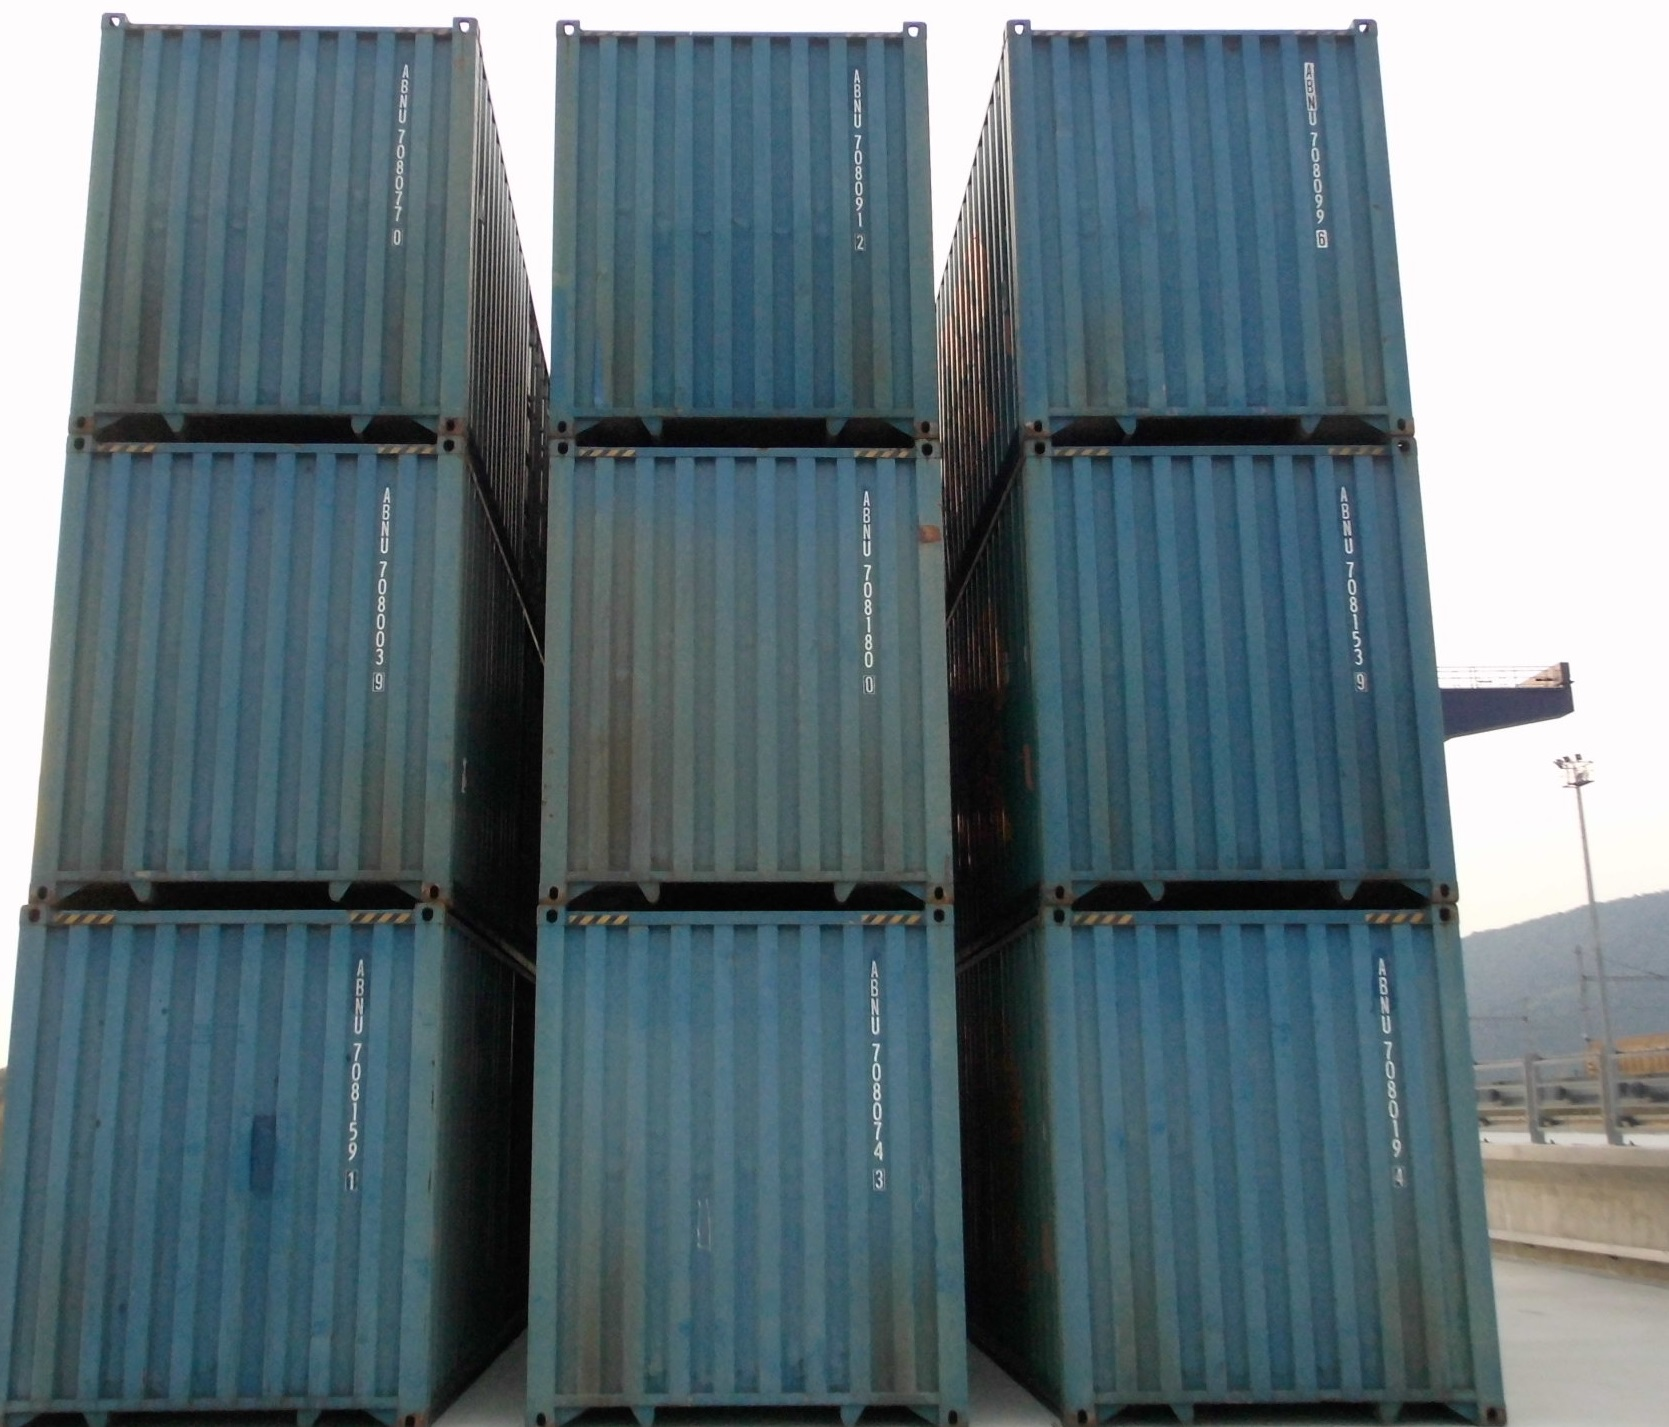container_no_door: (1046, 913, 1515, 1427), (520, 912, 963, 1427), (10, 898, 442, 1420), (1033, 432, 1461, 913), (535, 450, 954, 912), (45, 428, 464, 883), (997, 14, 1417, 435), (71, 16, 478, 425), (542, 21, 948, 430)
